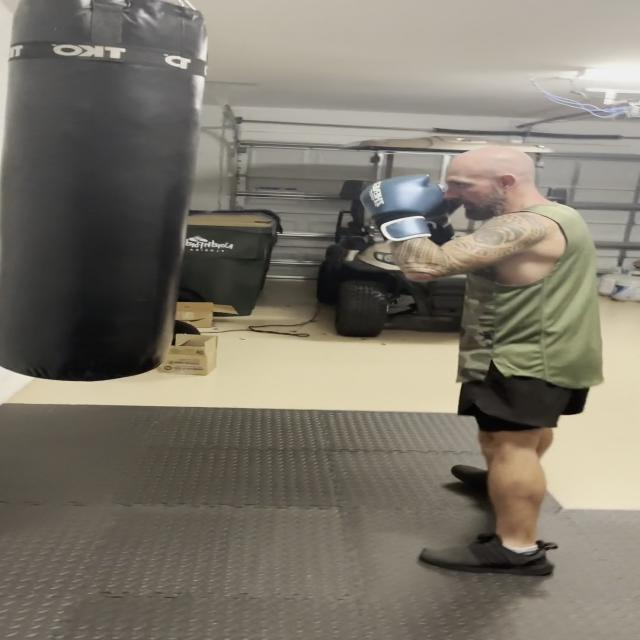bag: (0, 2, 215, 382)
no punch: (367, 137, 584, 300)
